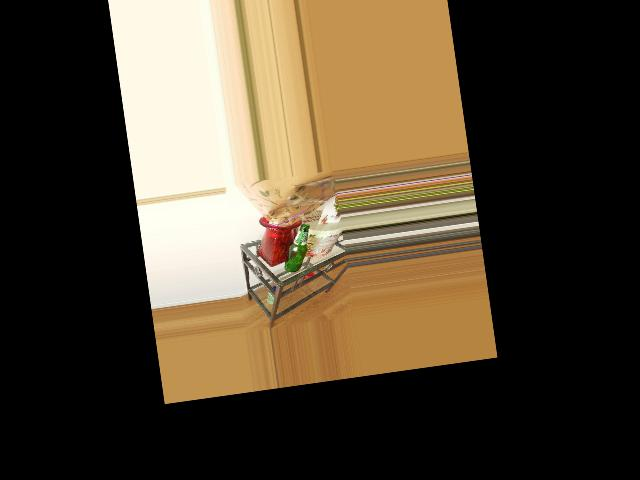beer: (279, 223, 315, 273)
